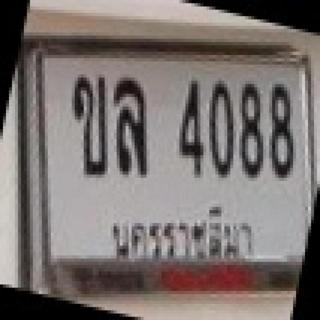A02: (69, 70, 111, 179)
A36: (111, 71, 154, 180)
N00: (207, 75, 239, 182)
N04: (173, 70, 207, 182)
N08: (236, 75, 267, 182), (267, 76, 296, 182)
P30: (106, 201, 260, 260)
